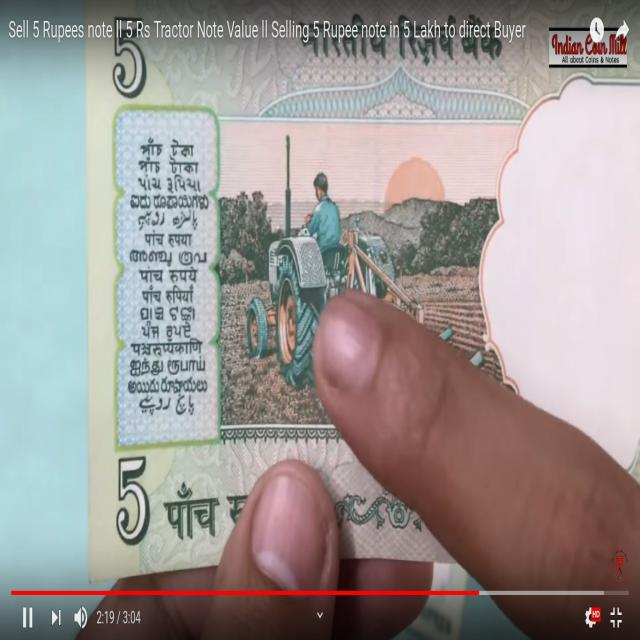5IndianRupees: (84, 8, 637, 559)
